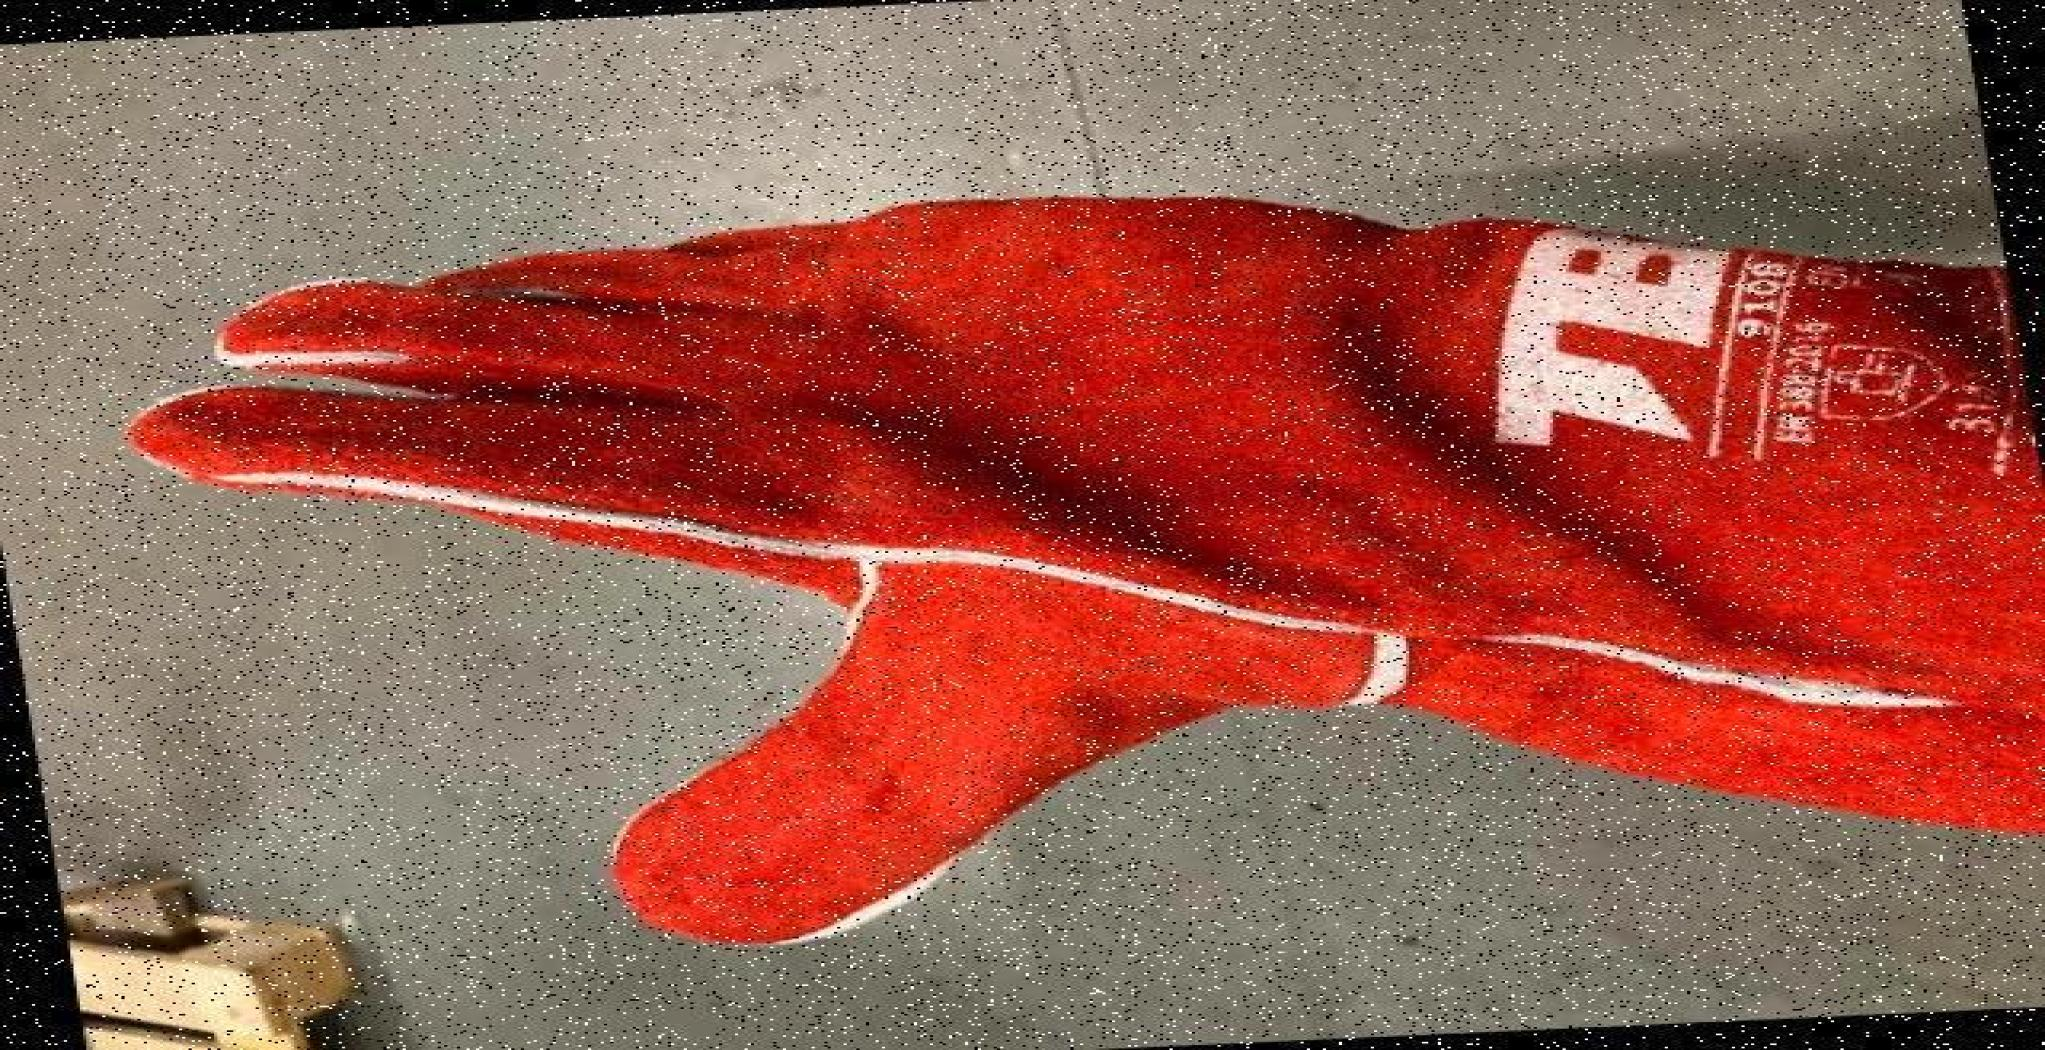gloved: (118, 192, 2042, 948)
